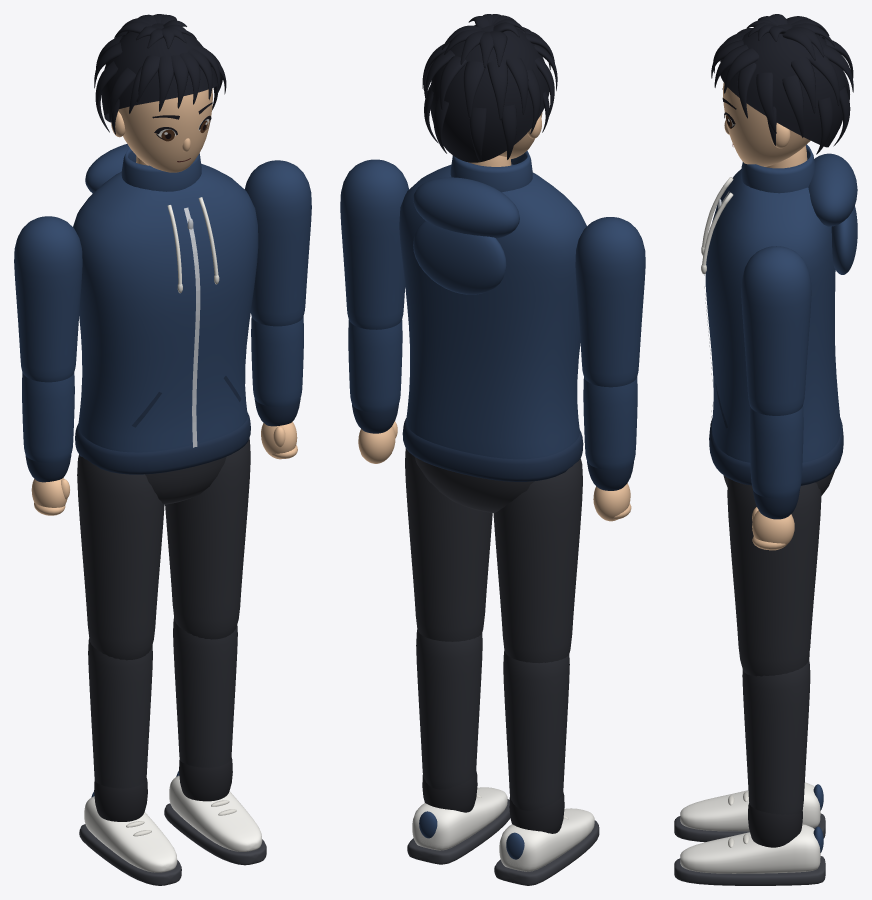
Rendered from hero.glb.
3 renders of one model, left to right at view 1: azimuth 30°, elevation 25°; view 2: azimuth 150°, elevation 25°; view 3: azimuth 270°, elevation 25°, orthographic. The views are drawn at different scales.
Visible parts, largest first — view 1: torso, head, shin_R, shin_L, thigh_R, thigh_L, upperArm_R, upperArm_L, forearm_R, forearm_L, pelvis; view 2: torso, head, shin_R, shin_L, thigh_R, thigh_L, upperArm_R, upperArm_L, forearm_L, forearm_R, pelvis; view 3: torso, shin_L, head, thigh_L, upperArm_L, forearm_L, shin_R.
Part boxes in pixels (<box>): torso: <box>73,144,258,474</box>; head: <box>94,14,226,172</box>; shin_R: <box>79,638,181,885</box>; shin_L: <box>164,617,266,865</box>; thigh_R: <box>77,454,164,660</box>; thigh_L: <box>165,438,250,639</box>; upperArm_R: <box>14,216,82,382</box>; upperArm_L: <box>244,160,311,326</box>; forearm_R: <box>22,372,74,515</box>; forearm_L: <box>251,316,303,459</box>; pelvis: <box>145,456,226,504</box>; torso: <box>399,150,586,481</box>; head: <box>422,14,557,166</box>; shin_R: <box>494,650,599,885</box>; shin_L: <box>407,629,510,864</box>; thigh_R: <box>493,458,582,663</box>; thigh_L: <box>405,448,492,641</box>; upperArm_R: <box>575,217,645,387</box>; upperArm_L: <box>340,159,408,329</box>; forearm_L: <box>348,319,402,463</box>; forearm_R: <box>583,377,637,521</box>; pelvis: <box>415,457,534,512</box>; torso: <box>701,144,857,485</box>; shin_L: <box>674,659,825,885</box>; head: <box>711,14,853,168</box>; thigh_L: <box>727,478,821,676</box>; upperArm_L: <box>741,246,811,415</box>; forearm_L: <box>749,406,803,550</box>; shin_R: <box>674,654,825,842</box>.
Size of the model in its own units: 0.6804 by 1.83 by 0.3663.
